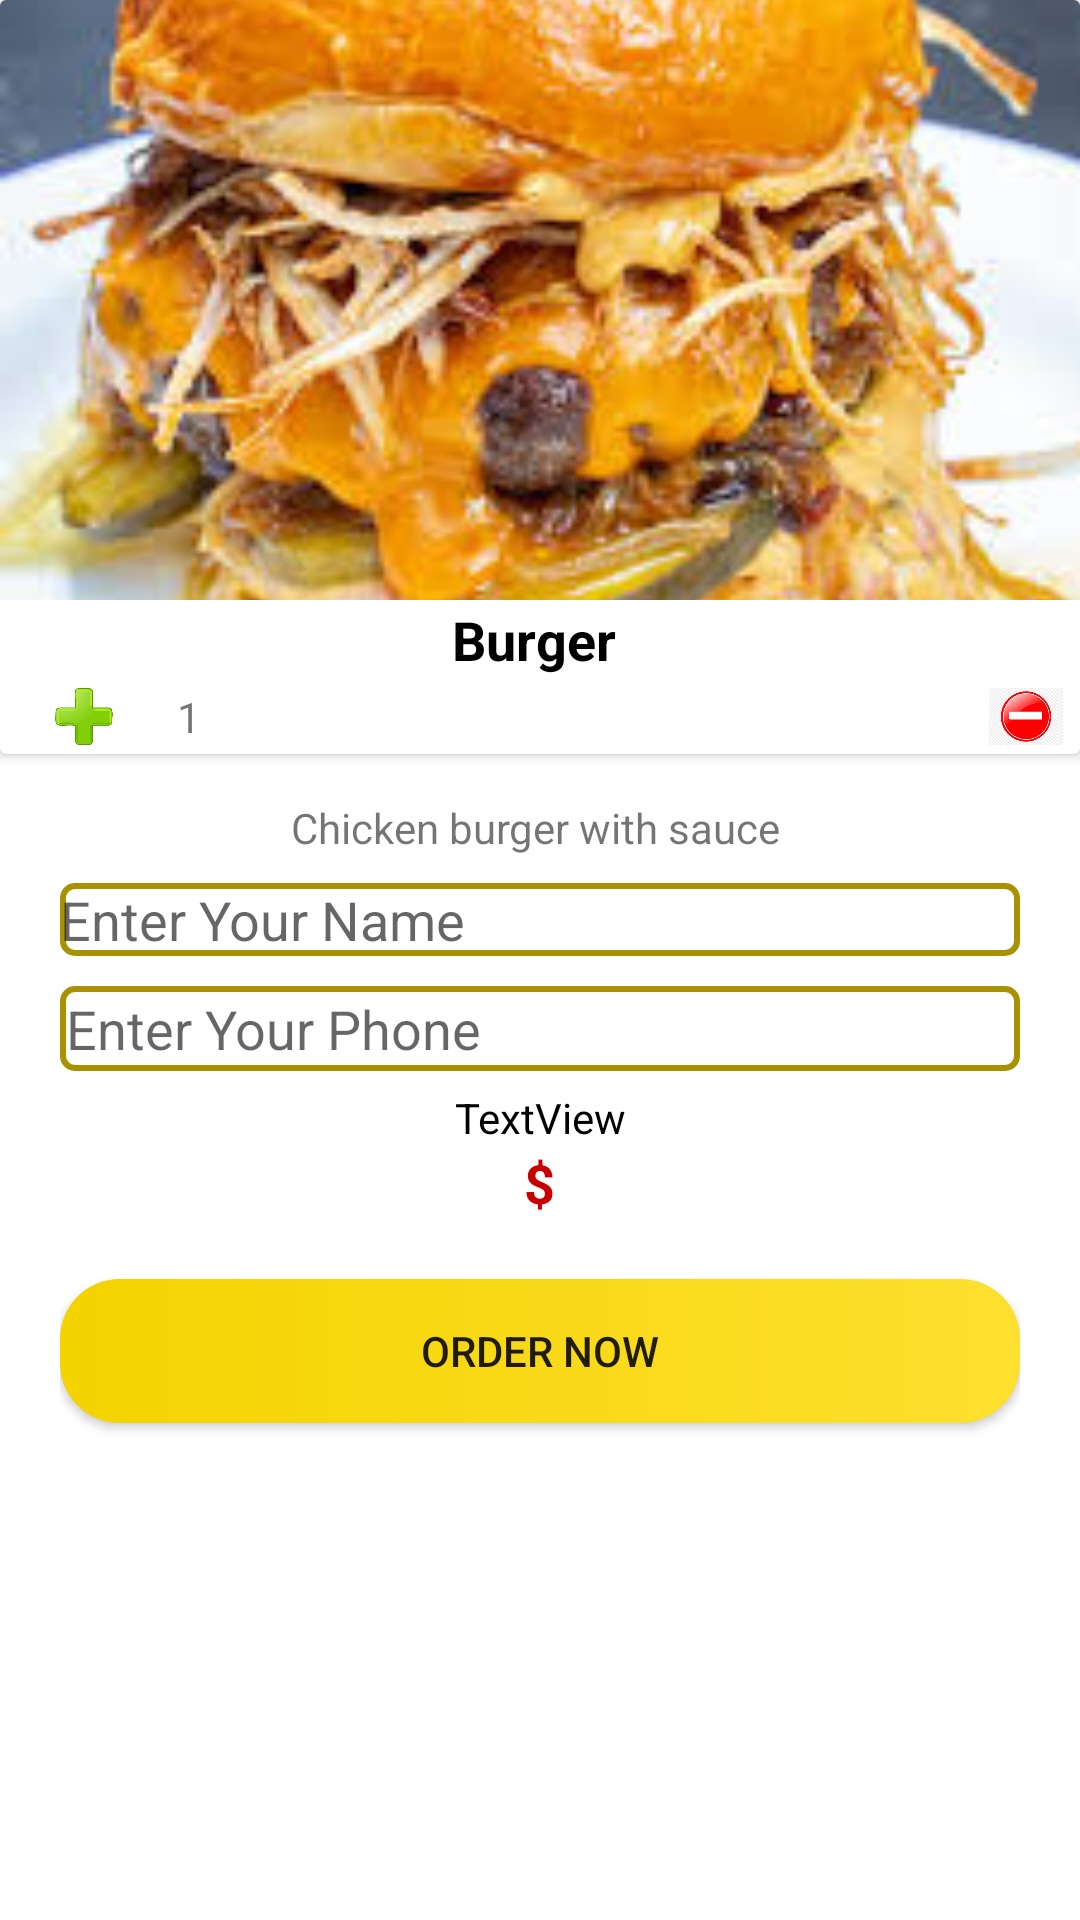

Icons on this 1080 × 1920 Android screen, each with its box as [x1=x1, y1=y1, x2=x2, y2=y2]:
minus: [x1=998, y1=690, x2=1062, y2=743]
plux: [x1=55, y1=688, x2=113, y2=745]
